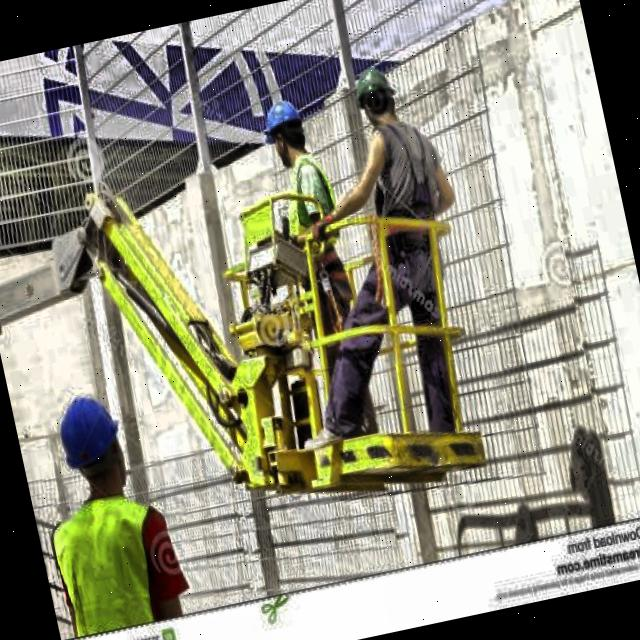helmet: (45, 378, 136, 502), (256, 90, 313, 167), (350, 58, 403, 133)
